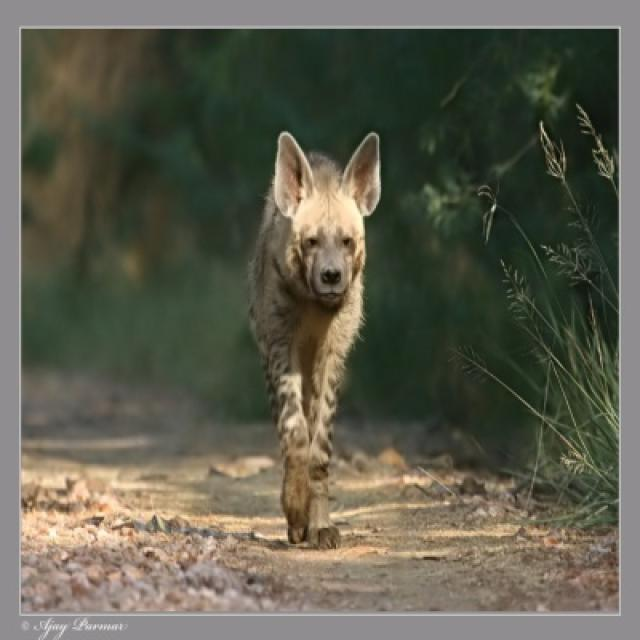hyena: (248, 131, 379, 547)
